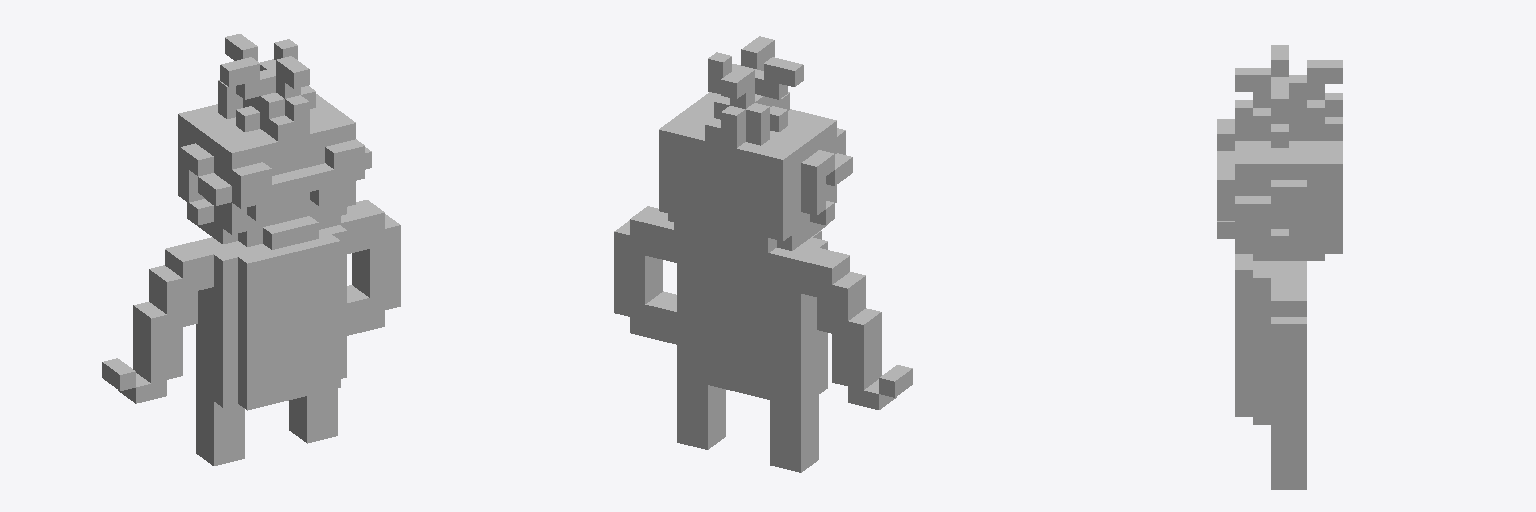
The model's file is 2 Scout.obj.
The picture shows the model from 3 angles: view 1: azimuth 30°, elevation 25°; view 2: azimuth 150°, elevation 25°; view 3: azimuth 270°, elevation 25°; orthographic projection.
Parts seen in each view (by area): view 1: object 1; view 2: object 1; view 3: object 1.
Boxes of the visible parts, x1,y1,x2,y2 form: object 1: [102, 34, 400, 465]; object 1: [614, 36, 912, 472]; object 1: [1217, 45, 1342, 489].
Bounding box in the file's own units: 1.8 × 2.4 × 0.7.